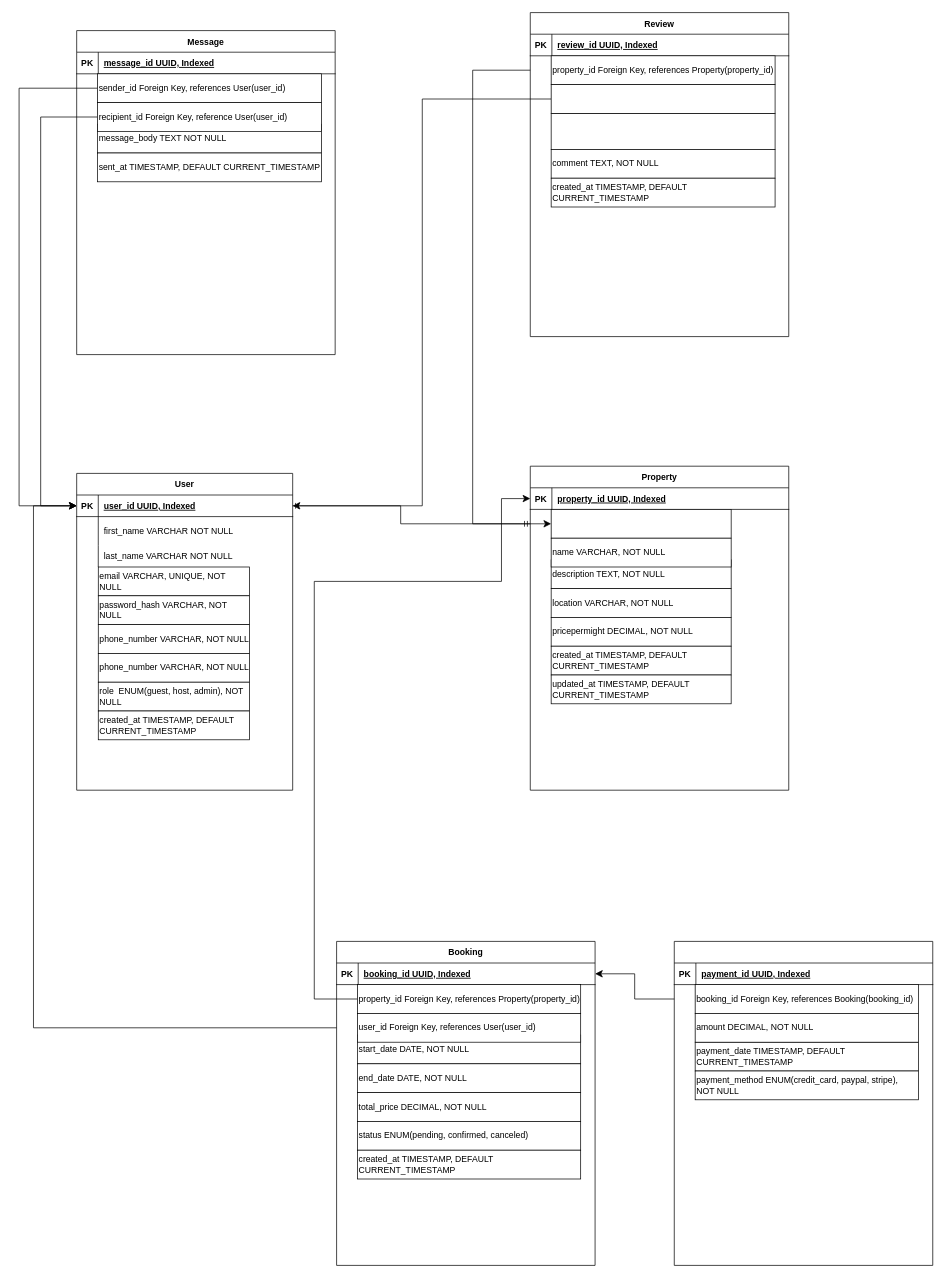
Image size: 945x1278. Some labels were removed from this diagram. Each missing label, with the box of its shape:
host_id Foreign Key, references User(user_id): (550, 509, 731, 538)
Payement: (674, 941, 933, 1265)
rating INTEGER, CHECK rating >= 1 AND rating <= 5, NOT NULL: (550, 113, 775, 149)
user_id Foreign Key, reference Property(property_id): (550, 84, 775, 113)
